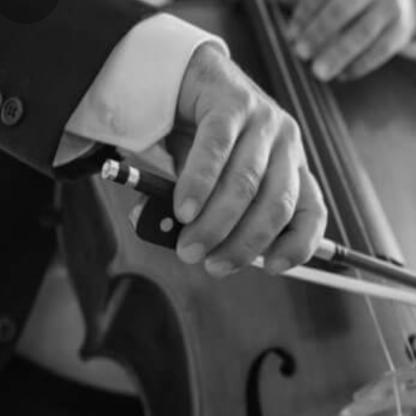good: (161, 78, 333, 281)
